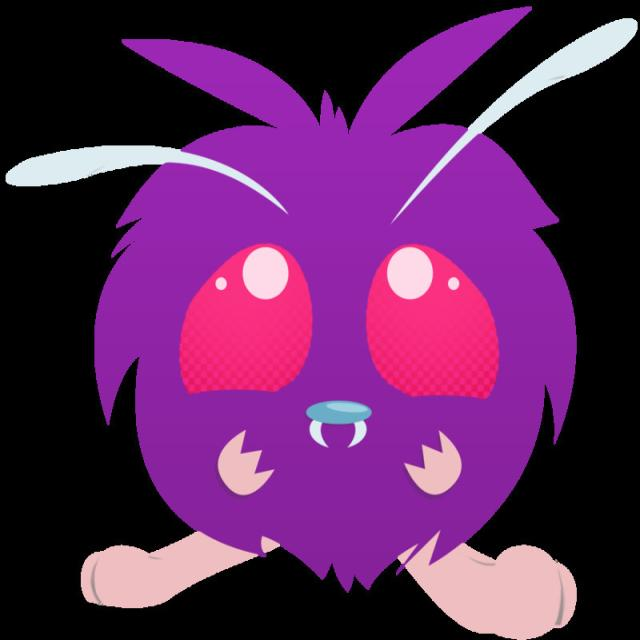Venonat: (91, 43, 594, 640)
